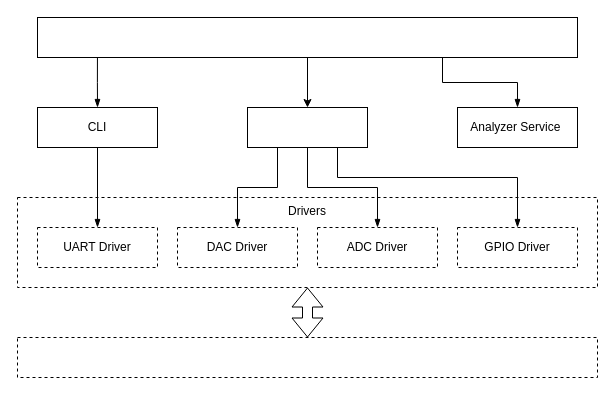
The diagram is 615 pixels wide and 395 high, and some of its shapes have lost their labels. The shapes that lost their labels are listed below. From the top down, each one's centre as x and y in pixels, then its label:
the point at 307,37: App
the point at 307,127: Mnt (Measurement)
the point at 307,357: Mock Driver (for local test)
